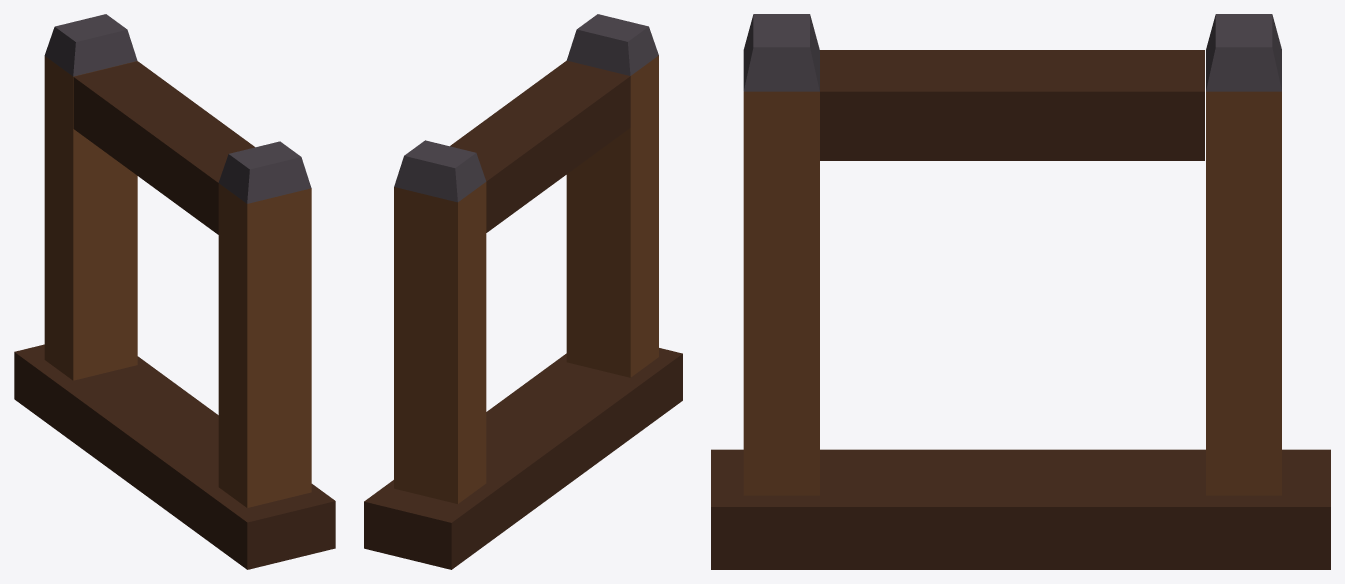
The model's file is Stop.fbx.
3 views of the same model, side by side, from view 1: azimuth 30°, elevation 25°; view 2: azimuth 150°, elevation 25°; view 3: azimuth 270°, elevation 25° (orthographic). The views are drawn at different scales.
Visible parts, largest first — view 1: Cube.027; view 2: Cube.027; view 3: Cube.027.
Boxes of the visible parts, bbox=[...] form: Cube.027: bbox=[14, 14, 335, 569]; Cube.027: bbox=[364, 14, 682, 569]; Cube.027: bbox=[711, 14, 1330, 569].
Size of the model in its own units: 0.2596 by 1.08 by 1.19.
